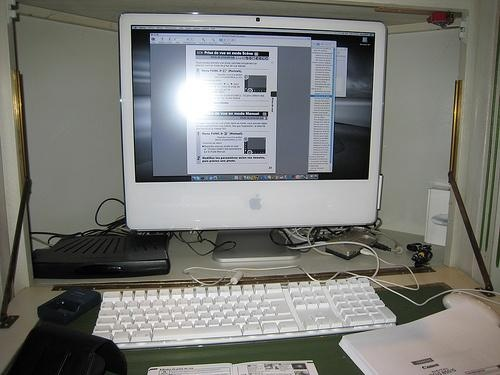tvmonitor: (116, 10, 390, 266)
